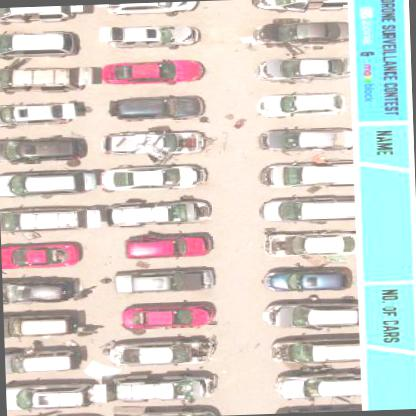car: (108, 334, 206, 366), (273, 370, 365, 404), (101, 162, 208, 191), (259, 298, 360, 328), (102, 56, 206, 85), (258, 159, 354, 190), (104, 128, 205, 156), (124, 300, 212, 332), (0, 136, 85, 168), (115, 197, 204, 227), (270, 335, 362, 364), (0, 65, 95, 93), (127, 230, 210, 262), (98, 22, 200, 48), (260, 196, 354, 224), (7, 383, 100, 411), (117, 375, 216, 401), (256, 55, 350, 82), (257, 90, 347, 118), (119, 266, 209, 294), (112, 94, 202, 122), (261, 266, 353, 293), (258, 126, 352, 151), (1, 209, 94, 234), (0, 98, 83, 126), (3, 278, 82, 306), (257, 20, 348, 44), (0, 170, 78, 198), (264, 230, 354, 254), (3, 242, 79, 270), (6, 348, 78, 376), (5, 312, 82, 338), (0, 30, 71, 58), (0, 5, 85, 24), (251, 0, 349, 13), (109, 2, 197, 16)
